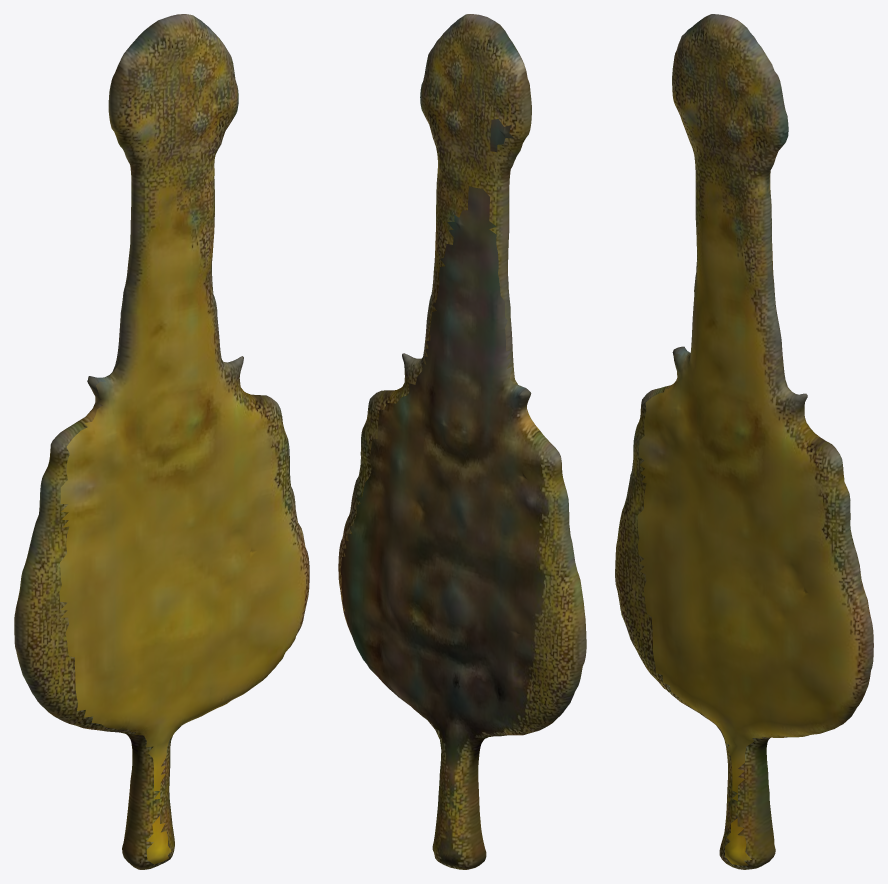
The model's file is kfl-2295.glb.
3 renders of one model, left to right at view 1: azimuth 30°, elevation 25°; view 2: azimuth 150°, elevation 25°; view 3: azimuth 330°, elevation 25°, orthographic. The views are drawn at different scales.
Parts seen in each view (by area): view 1: geometry_0; view 2: geometry_0; view 3: geometry_0.
Part boxes in pixels (left/top/right/bottom): geometry_0: left=14, top=14, right=309, bottom=869; geometry_0: left=338, top=14, right=586, bottom=869; geometry_0: left=615, top=14, right=873, bottom=869.
Bounding box in the file's own units: 0.3272 × 0.9903 × 0.0946.
Materials: 1 (1 with a texture image).
